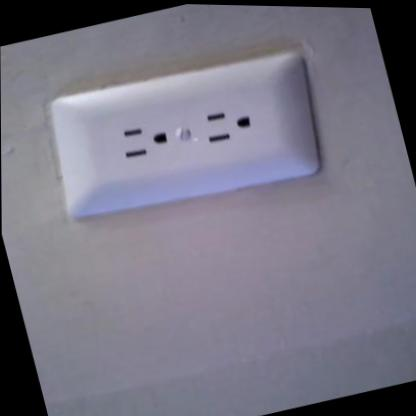OUTLET: (42, 34, 331, 236)
